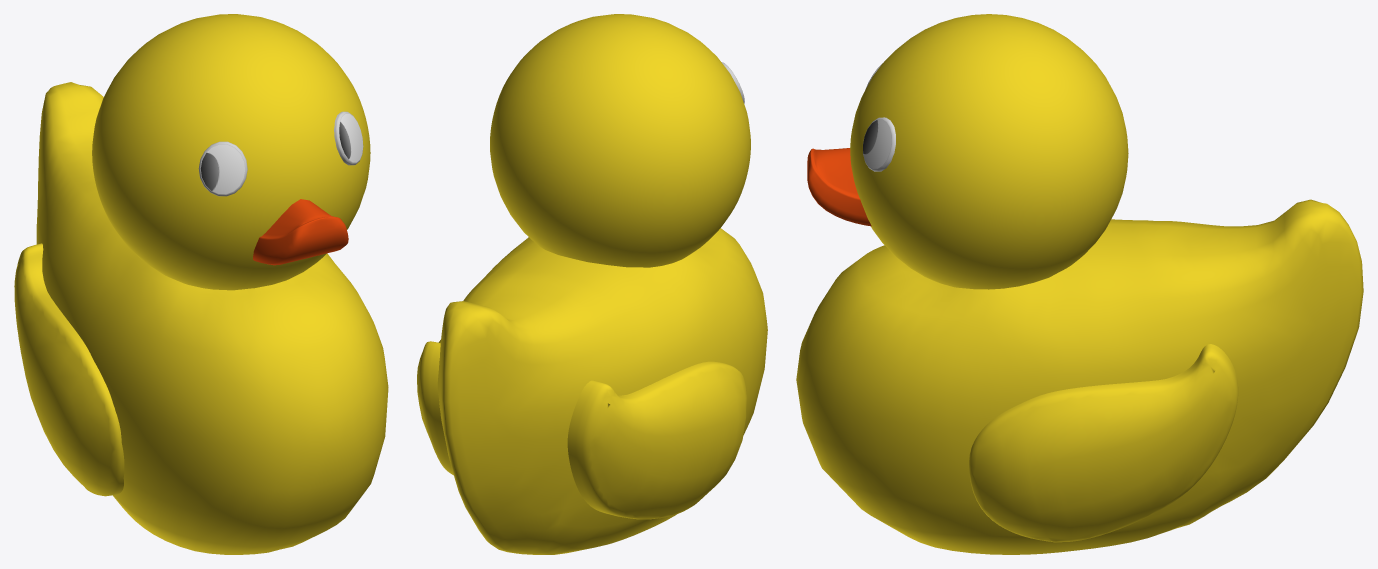
File: YellowDuck.FBX
3 views of the same model, side by side, from view 1: azimuth 30°, elevation 25°; view 2: azimuth 150°, elevation 25°; view 3: azimuth 270°, elevation 25° (orthographic). The views are drawn at different scales.
Parts seen in each view (by area): view 1: YDuck001; view 2: YDuck001; view 3: YDuck001.
Part boxes in pixels (x1,y1,x2,y2): YDuck001: [14, 14, 388, 554]; YDuck001: [417, 14, 767, 554]; YDuck001: [796, 14, 1363, 554].
Bounding box in the file's own units: 65.76 × 108 × 111.
4 materials, 1 textured.
